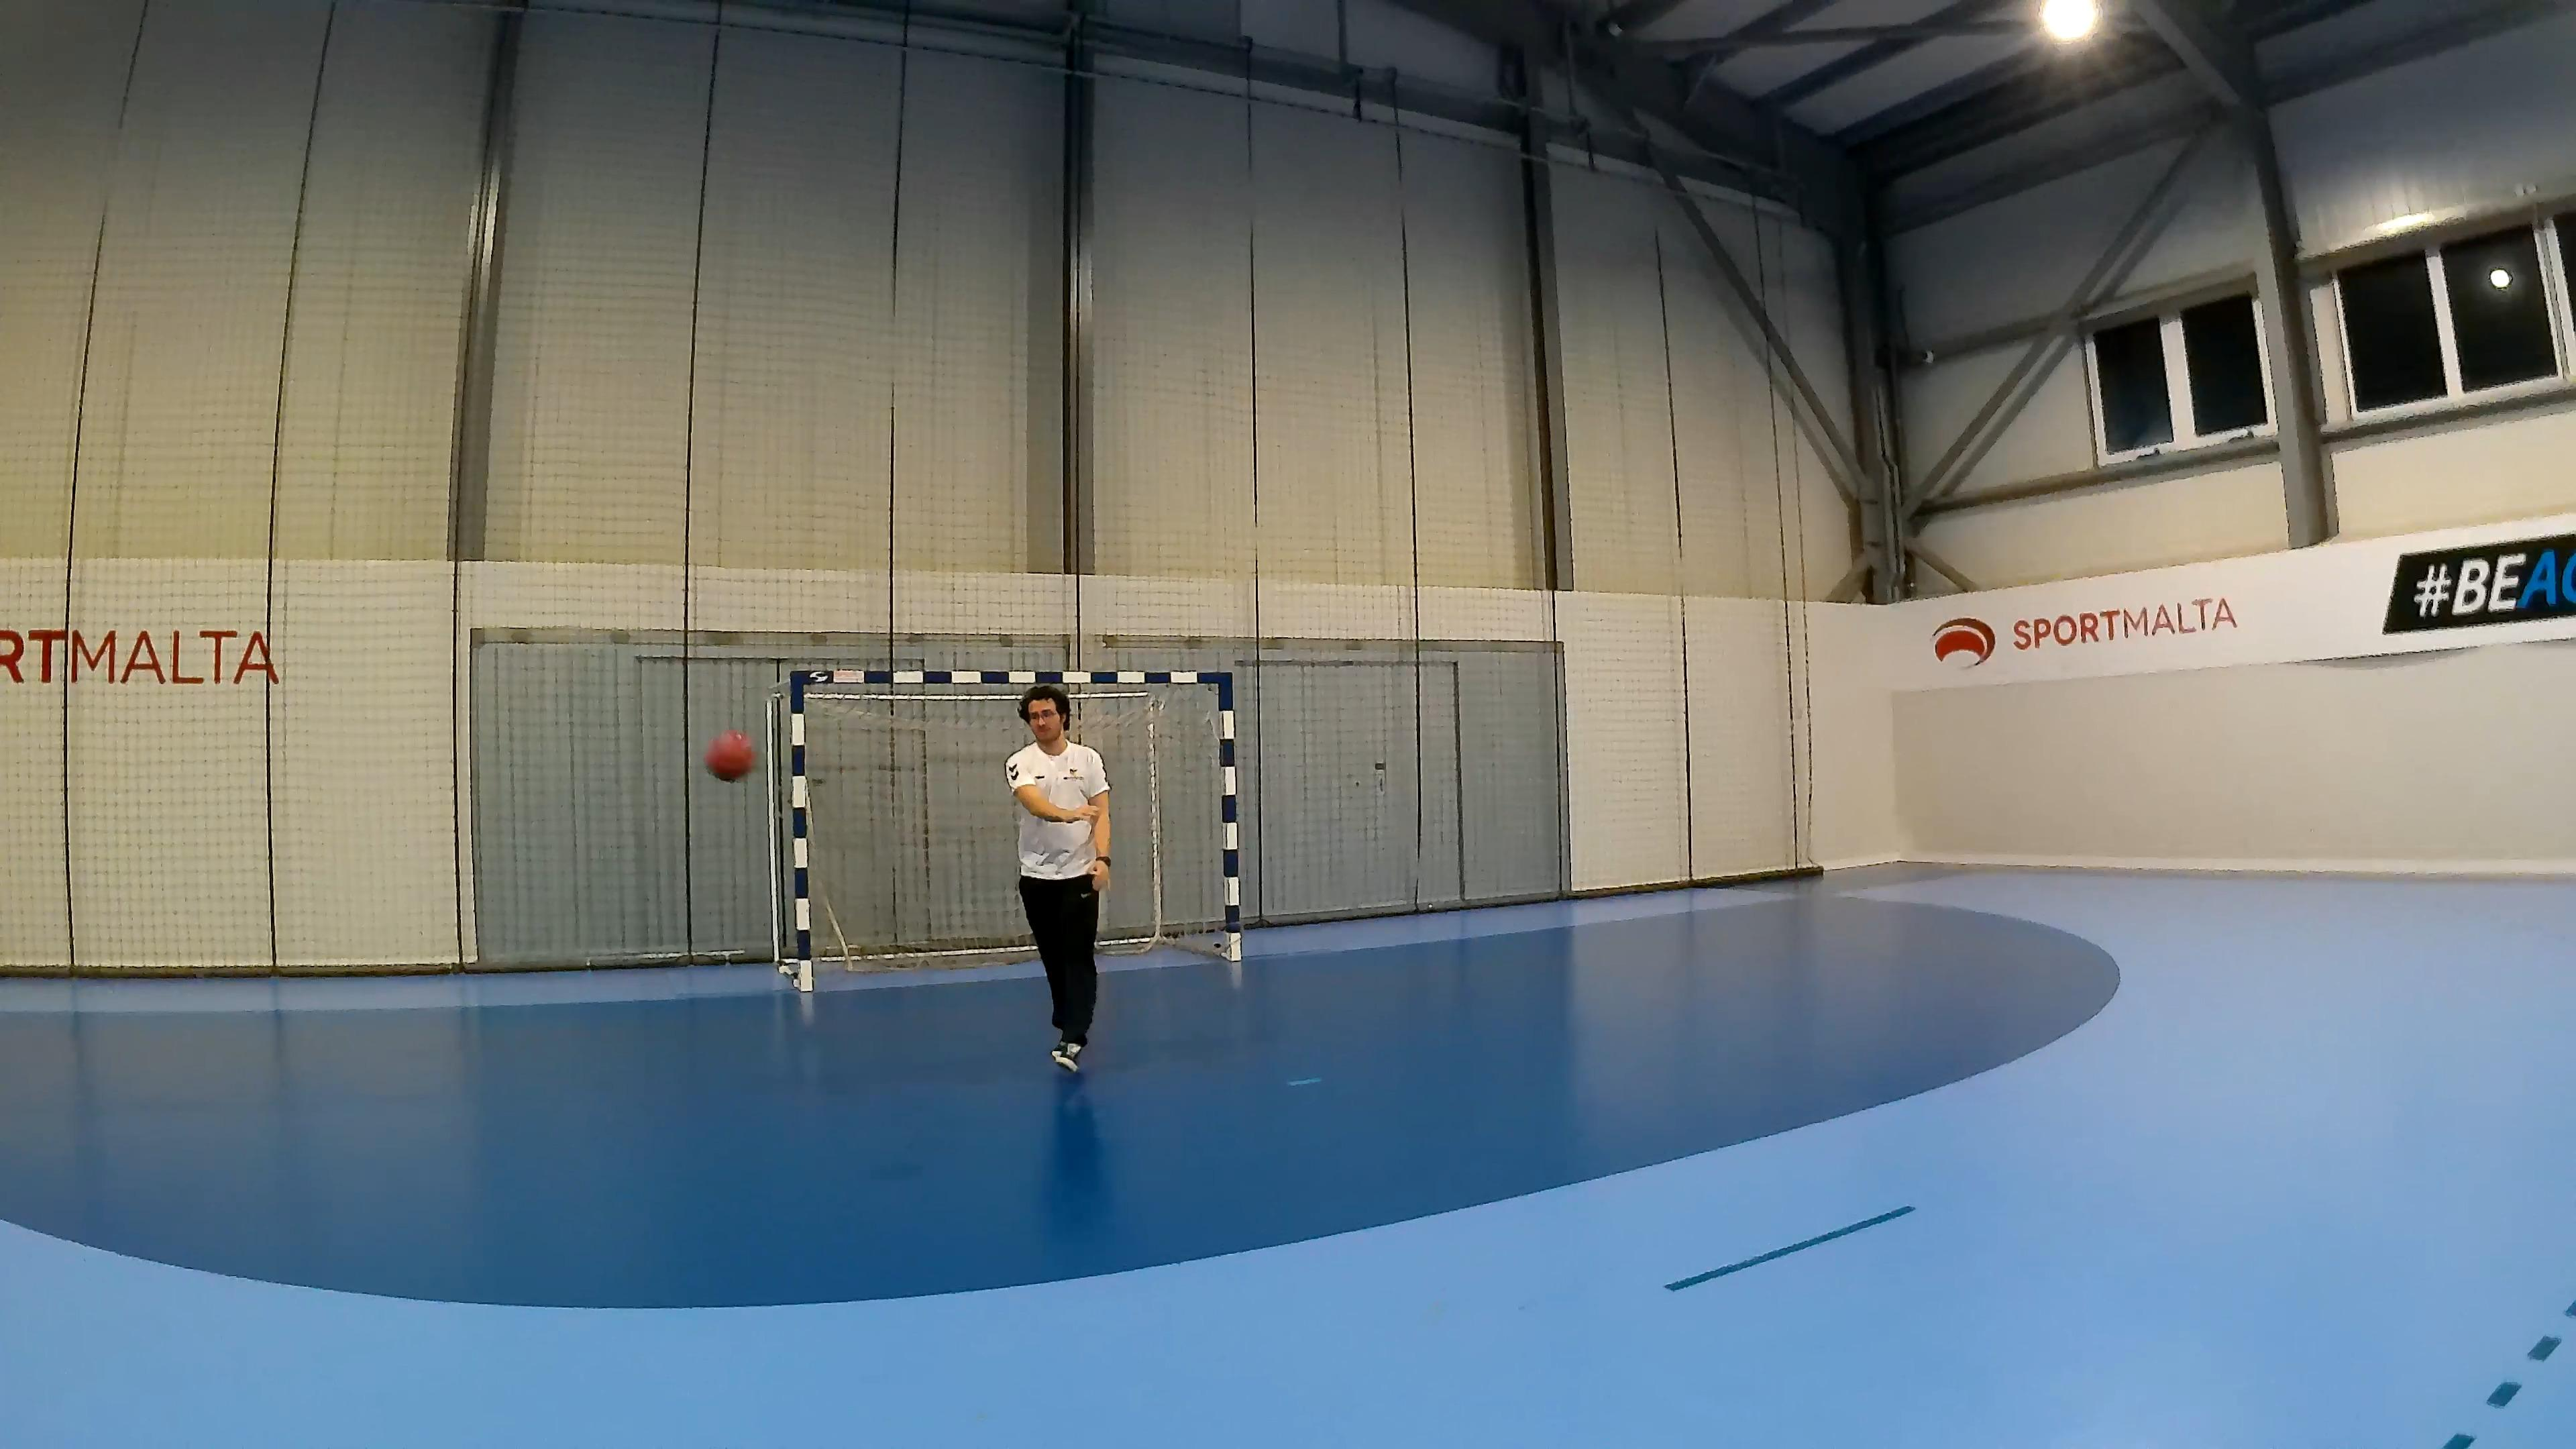handball: (704, 722, 757, 793)
